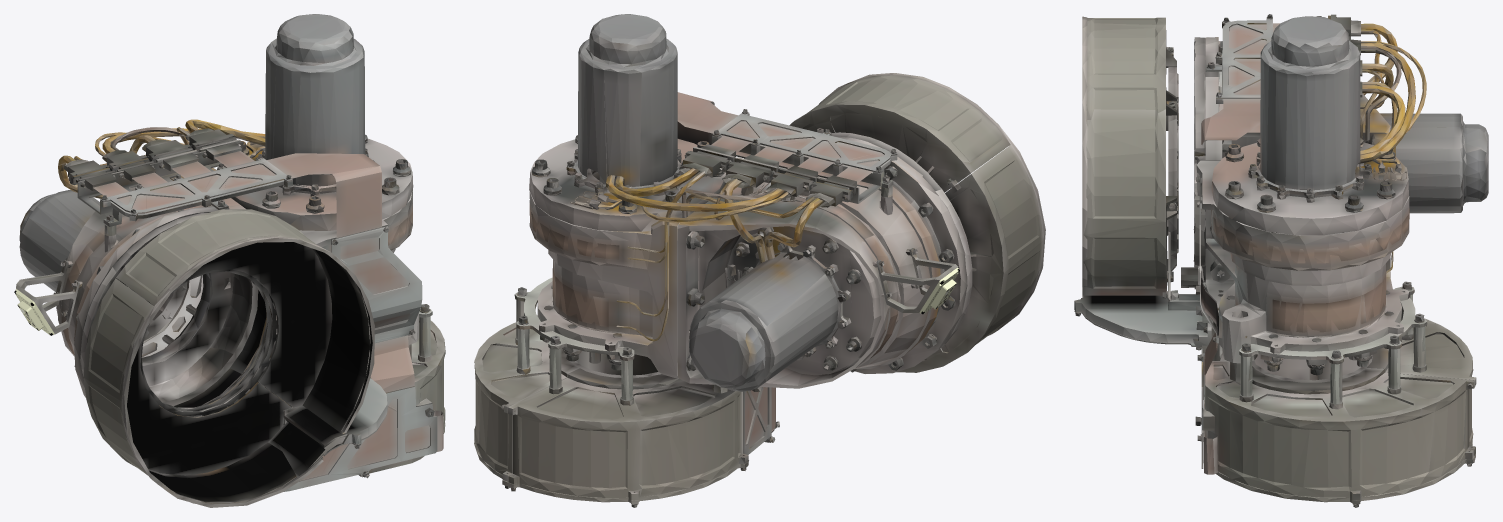
The model's file is Arm_LINK_1.gltf.
3 views of the same model, side by side, from view 1: azimuth 30°, elevation 25°; view 2: azimuth 150°, elevation 25°; view 3: azimuth 270°, elevation 25° (orthographic).
Visible parts, largest first — view 1: Mesh_0; view 2: Mesh_0; view 3: Mesh_0.
Part boxes in pixels (x1=…): Mesh_0: x1=14, y1=14, x2=445, y2=507; Mesh_0: x1=474, y1=14, x2=1045, y2=507; Mesh_0: x1=1074, y1=14, x2=1488, y2=507.
Size of the model in its own units: 0.4068 by 0.3671 by 0.331.
Materials: 1 (1 with a texture image).
